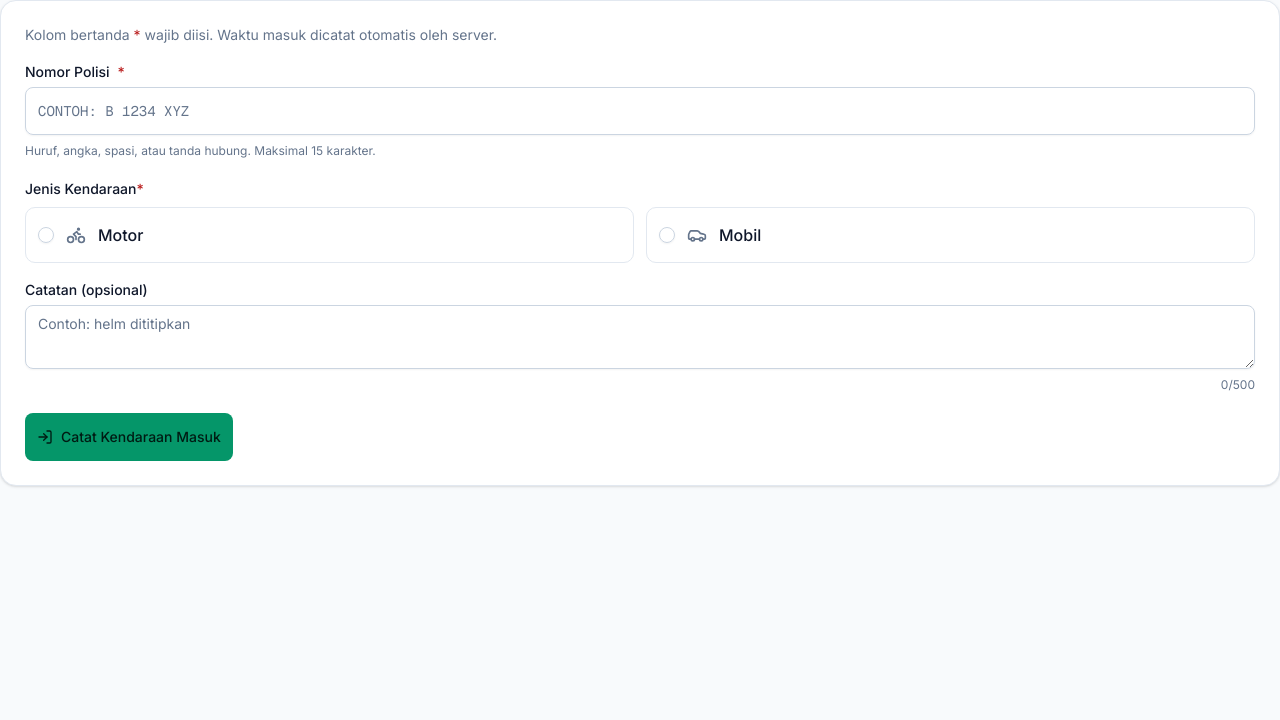
Test: inline validation (no request) › requires a plate and a vehicle type, focusing the plate
The width and height of the screenshot is (1280, 720).
Click the button "Catat Kendaraan Masuk". click: (129, 437)
box: [25, 413, 233, 461]
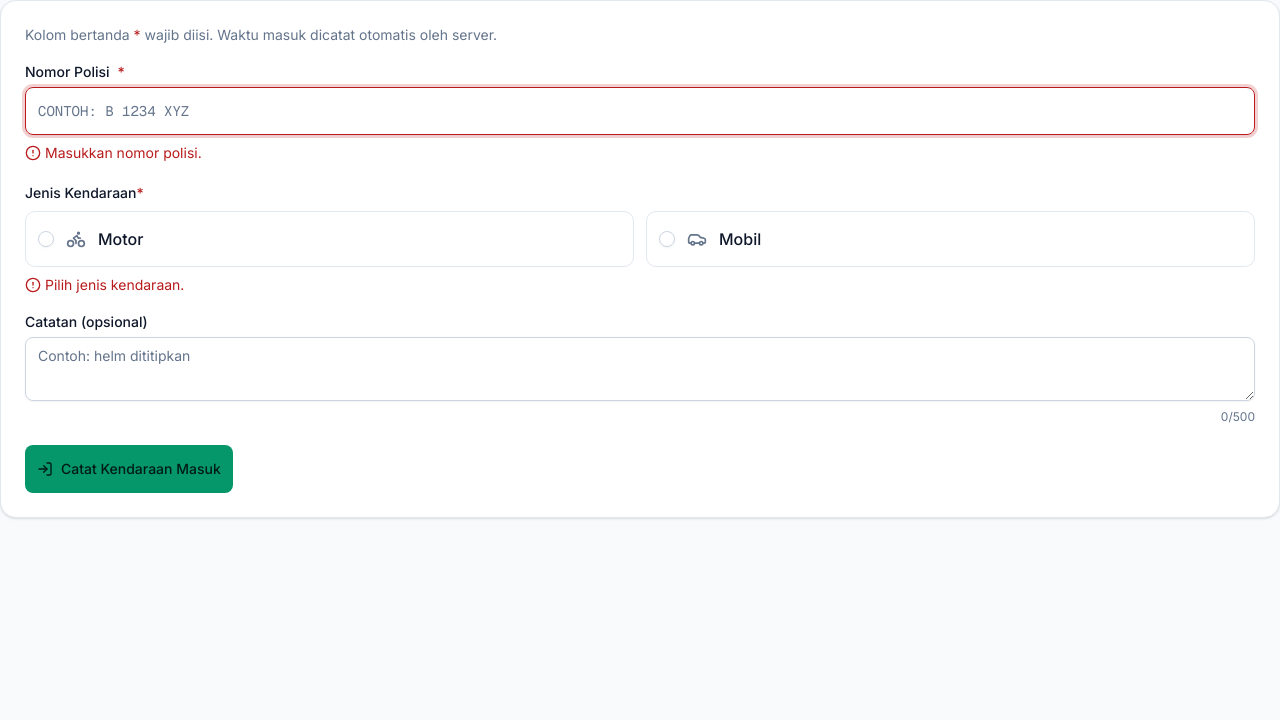
Check: the text "Masukkan nomor polisi." is shown, box [25, 144, 202, 161]
Check: the text "Pilih jenis kendaraan." is shown, box [25, 276, 184, 293]
